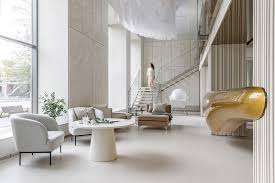Chair: (4, 107, 63, 173), (69, 105, 104, 141), (142, 103, 172, 136)
Table: (70, 111, 133, 166)
